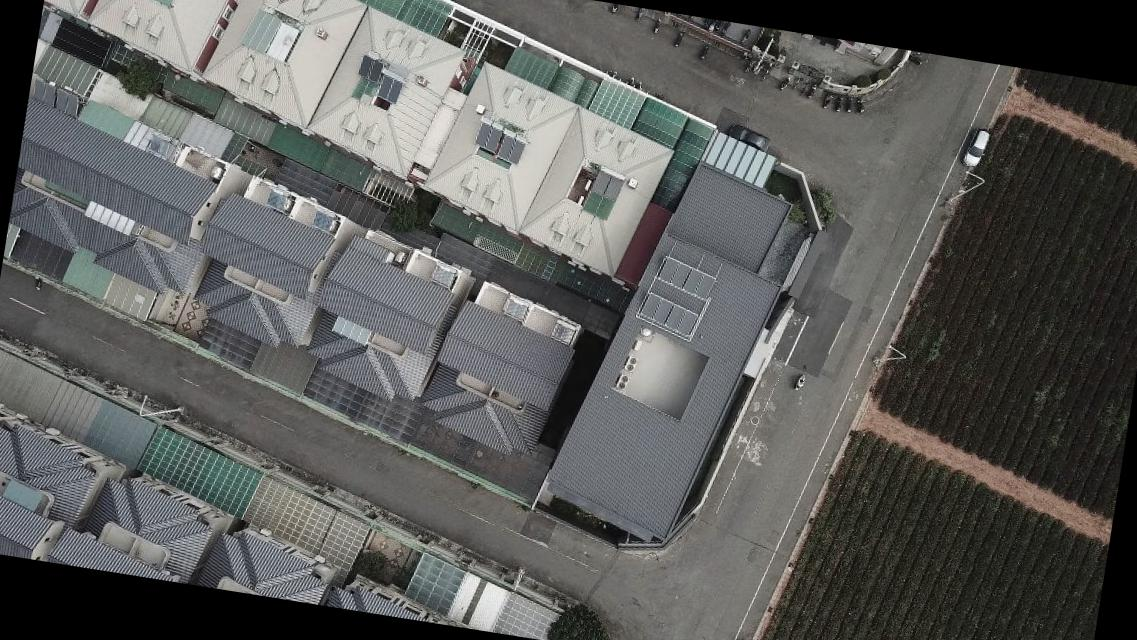vehicle: (724, 120, 774, 156), (960, 120, 993, 172)
